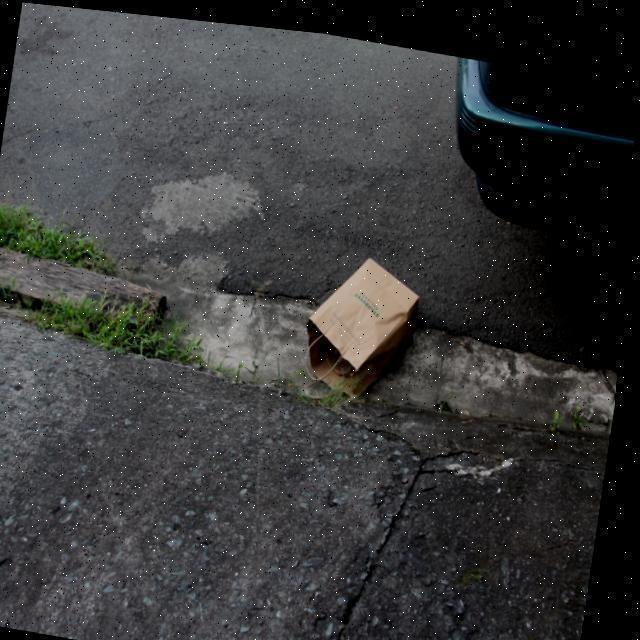Paper_Bag: (302, 240, 428, 404)
